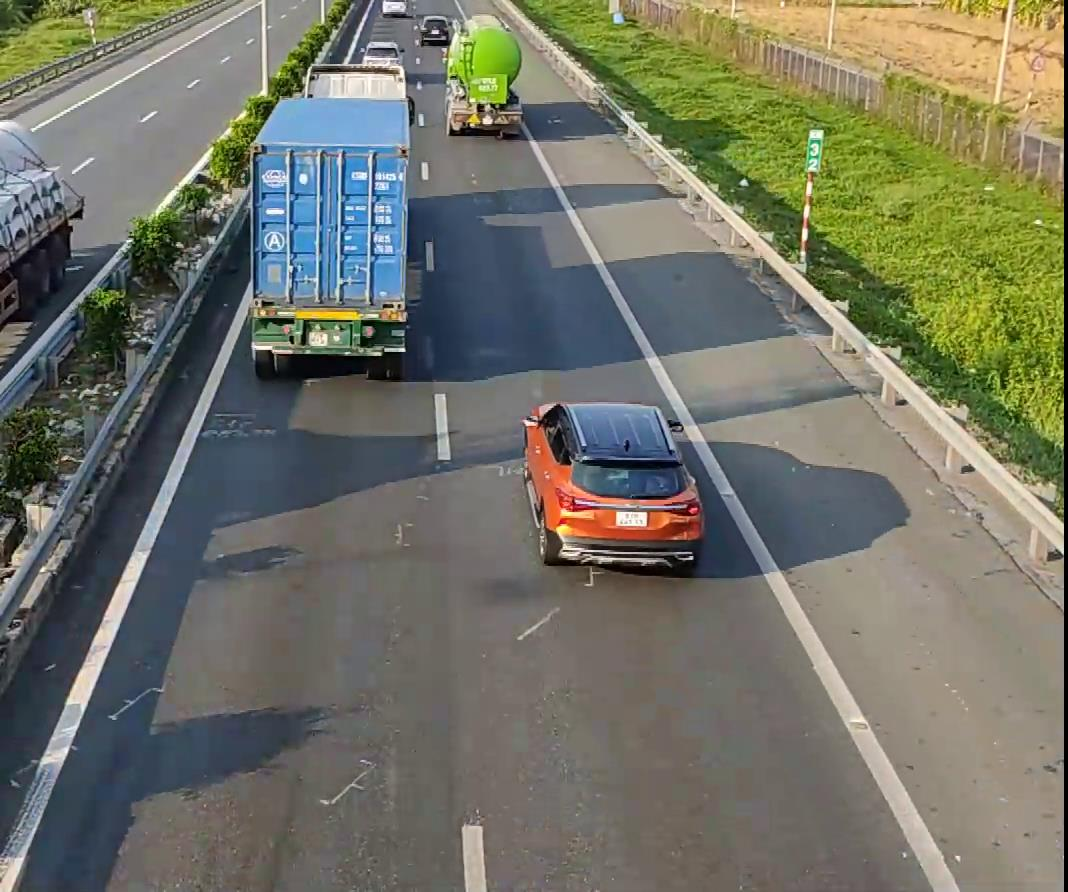car: (521, 400, 705, 569)
container: (243, 59, 417, 375), (442, 14, 522, 136)
